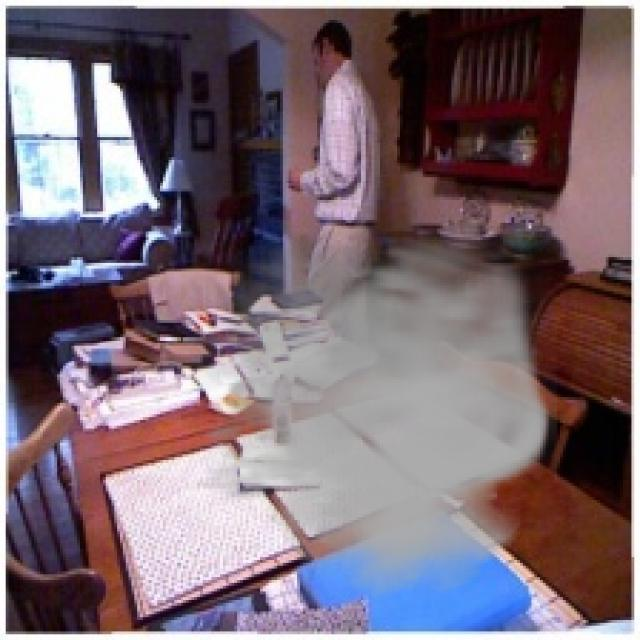Smoke: (157, 212, 557, 597)
